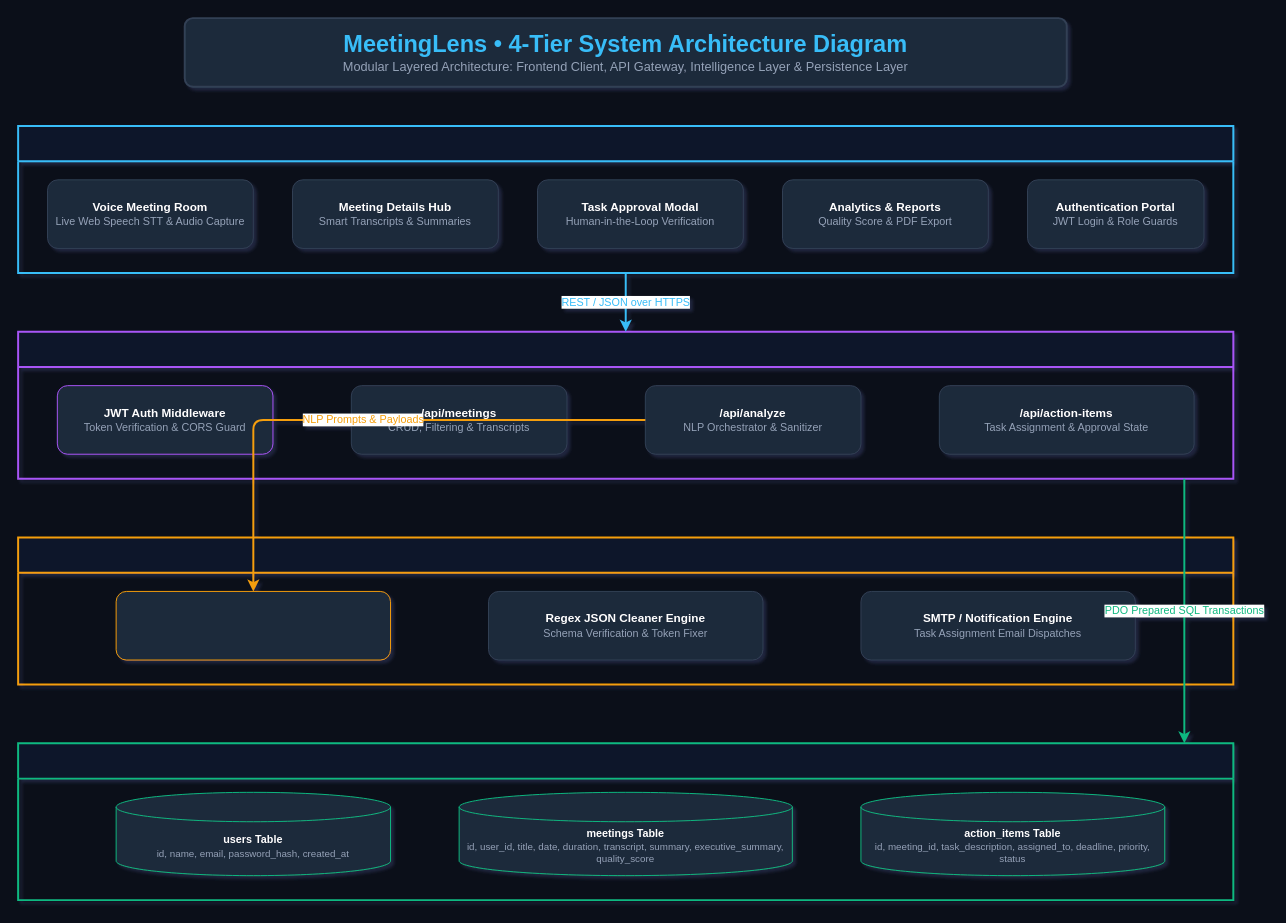
Image size: 1286x923. Some labels were removed from this diagram. Here are the shapes that lost their labels. From the top down, the box of each, then its label:
(17, 124, 1234, 273): 1. CLIENT PRESENTATION LAYER (React 18 SPA + Vite)
(17, 330, 1234, 479): 2. API GATEWAY & CONTROLLER LAYER (PHP 8.x REST API)
(115, 590, 391, 660): Google Gemini AI / Multi-LLM Zero-shot Summary & Task Extraction
(17, 536, 1234, 685): 3. INTELLIGENCE & EXTERNAL SERVICES LAYER
(17, 742, 1234, 901): 4. PERSISTENCE & STORAGE LAYER (MySQL Relational DB)
